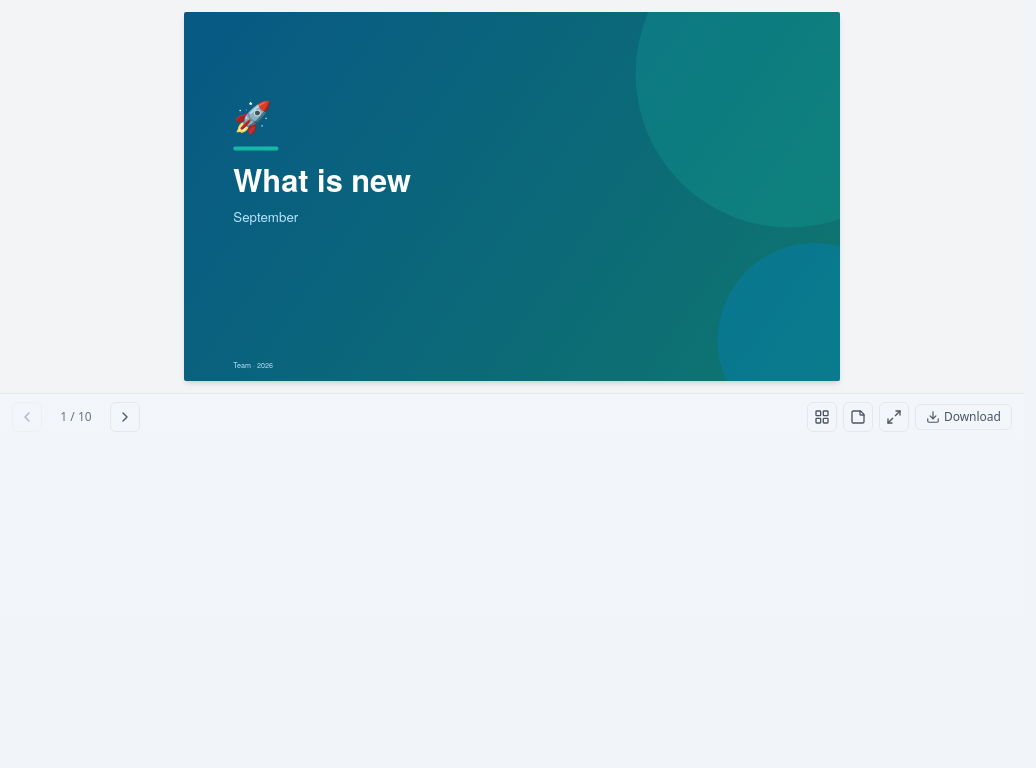
Scenario: SlidesView › shows thumbnails and jumps to the one clicked
Click the button titled "Slide overview".
click(822, 418)  # box 807,402 -> 837,432
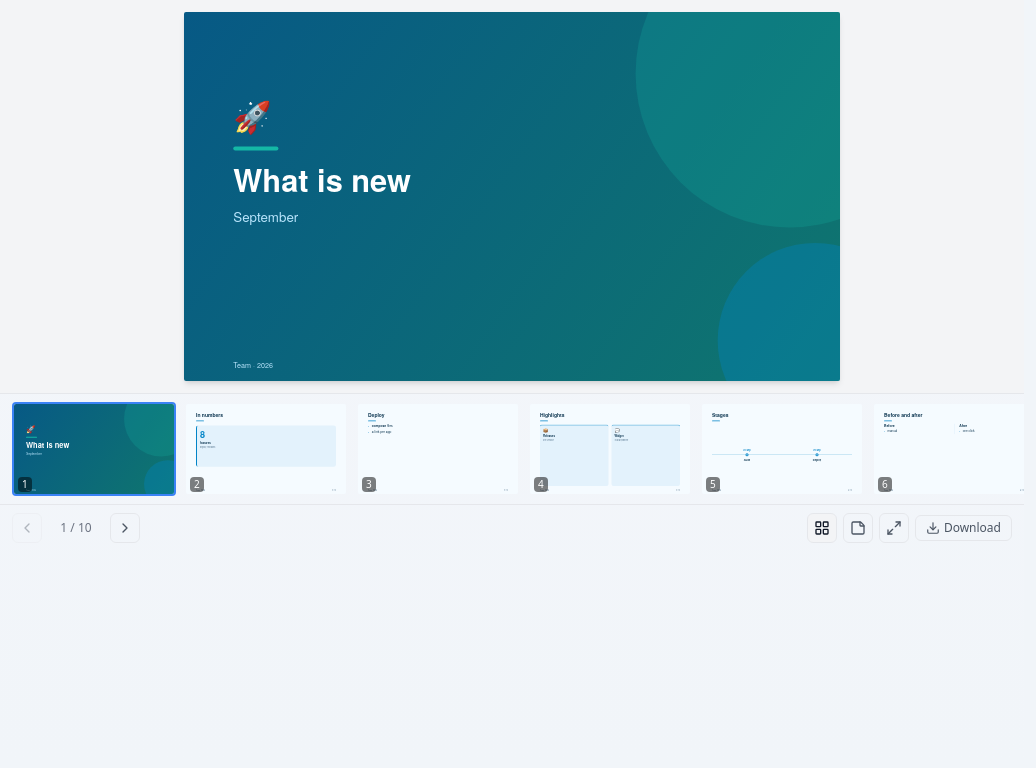
Click the button "Deploy • compose files • a link per app Team · 2026 3 / 10 3".
click(438, 450)  # box 356,402 -> 520,496
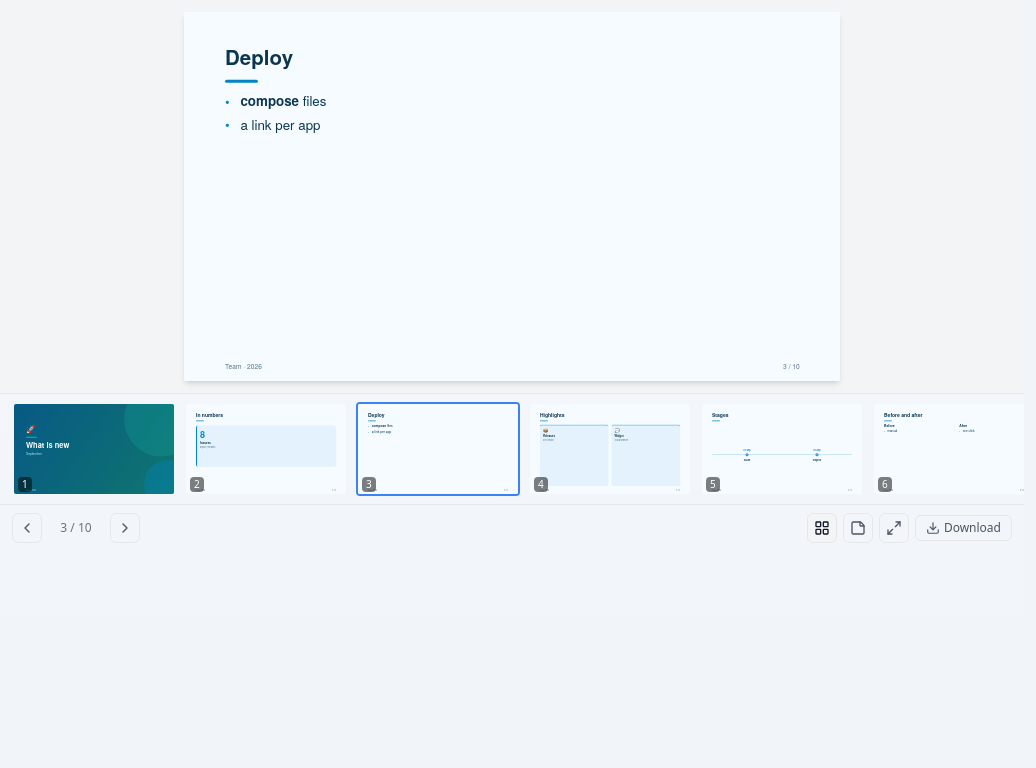
expect the text with test id "slide-counter" reads "3 / 10": met, box 60,520 -> 92,536
